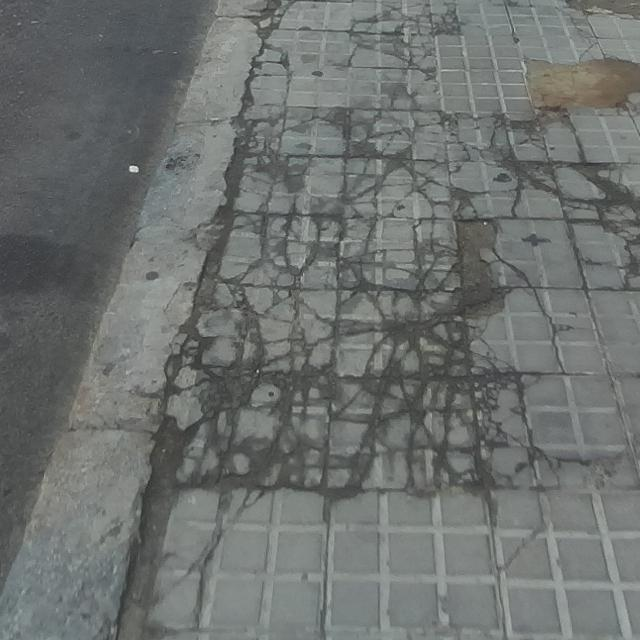calcada_quebrada: (331, 376, 533, 492), (182, 368, 328, 489), (209, 282, 332, 368), (338, 286, 452, 374), (232, 213, 342, 281), (344, 217, 453, 285), (450, 157, 562, 220), (237, 156, 342, 213), (344, 161, 450, 214), (185, 519, 231, 634), (346, 110, 445, 160), (248, 106, 345, 155), (453, 315, 521, 375), (528, 285, 574, 373), (346, 32, 439, 71), (492, 519, 555, 573), (356, 1, 465, 31), (534, 445, 601, 491), (447, 112, 507, 157), (382, 72, 442, 108), (222, 489, 271, 518), (499, 256, 538, 284), (261, 45, 293, 76), (571, 25, 603, 56), (267, 0, 297, 29), (553, 7, 576, 25)
